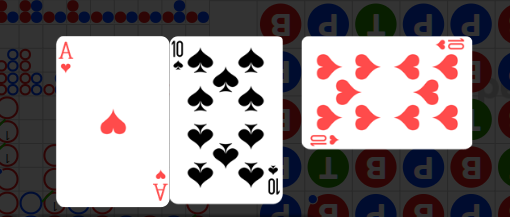10H: (435, 39, 467, 53)
10S: (267, 164, 281, 197)
AH: (59, 41, 75, 76)
